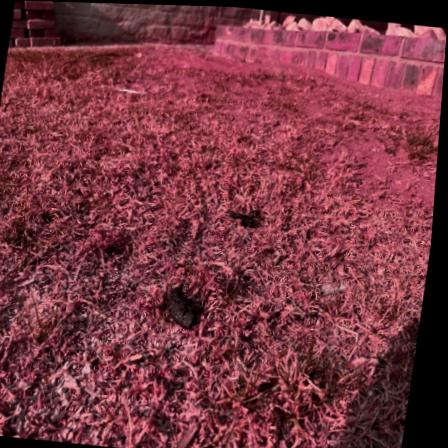dog-poop: (164, 283, 206, 336), (221, 198, 261, 235)
